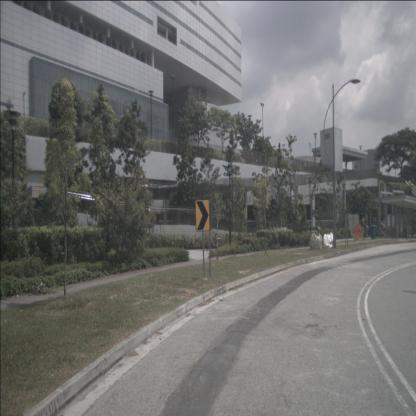vehicle-bicycle: (206, 231, 223, 252)
